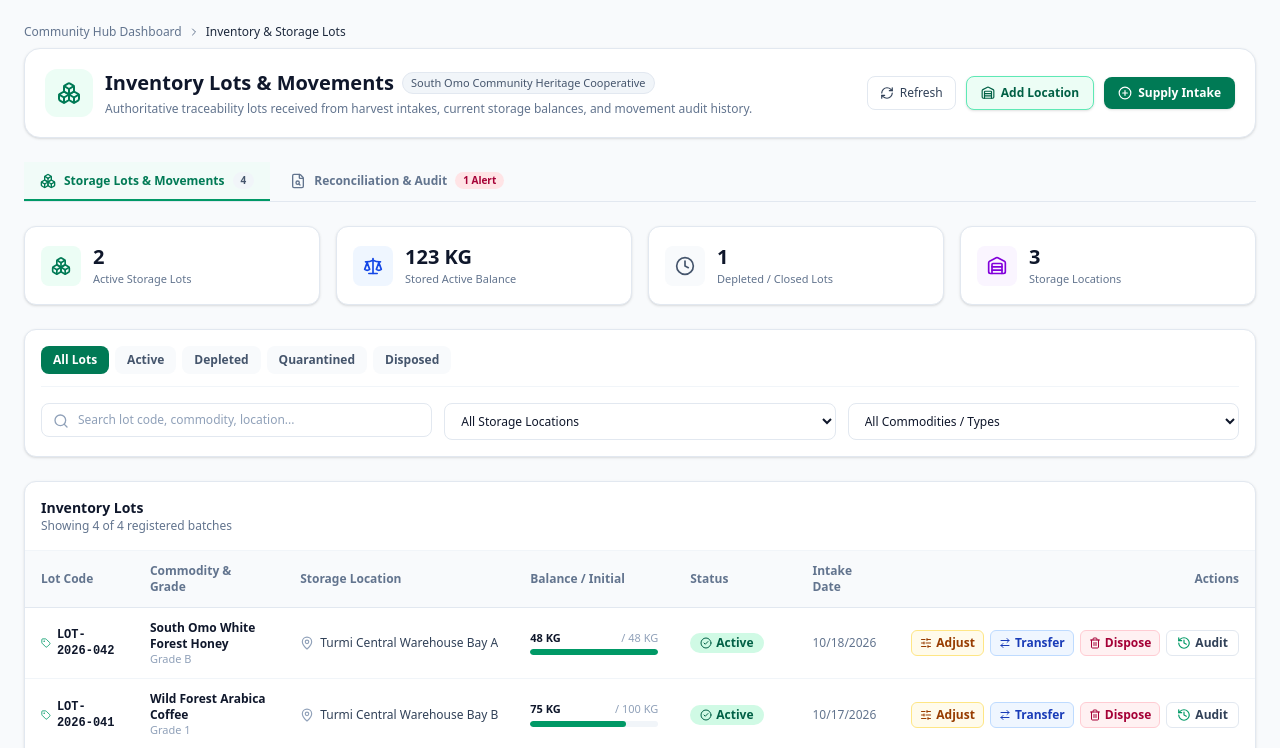
Test case: F-903: Inventory Reconciliation & Discrepancy Auditing › switches to Reconciliation & Audit tab and renders summary KPIs
The image size is (1280, 748).
Expected: the text with test id "badge-discrepancy-count" reads "1 Alert", [455,172,504,189]
# Click reconciliation view tab
What coordinates should you click on to do the following:
click the button with test id "view-tab-reconciliation"
I would click on:
 (397, 182)
Its box is [274,162,520,201].
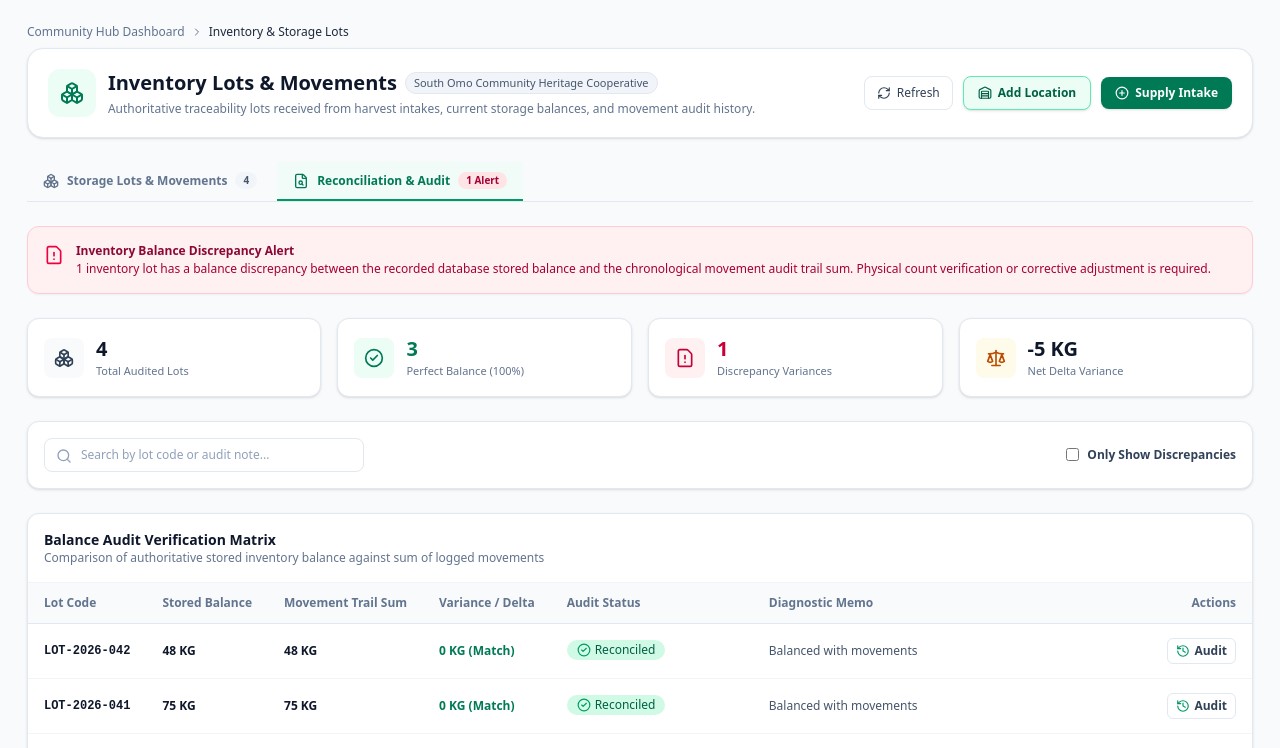
Expected: the text with test id "kpi-audited-lots" reads "4", [96,335,108,362]
Result: the element with test id "reconciliation-kpis" is shown at [27,318,1253,397]
Result: the text with test id "kpi-net-variance" reads "-5 KG" at [1028,335,1078,362]
